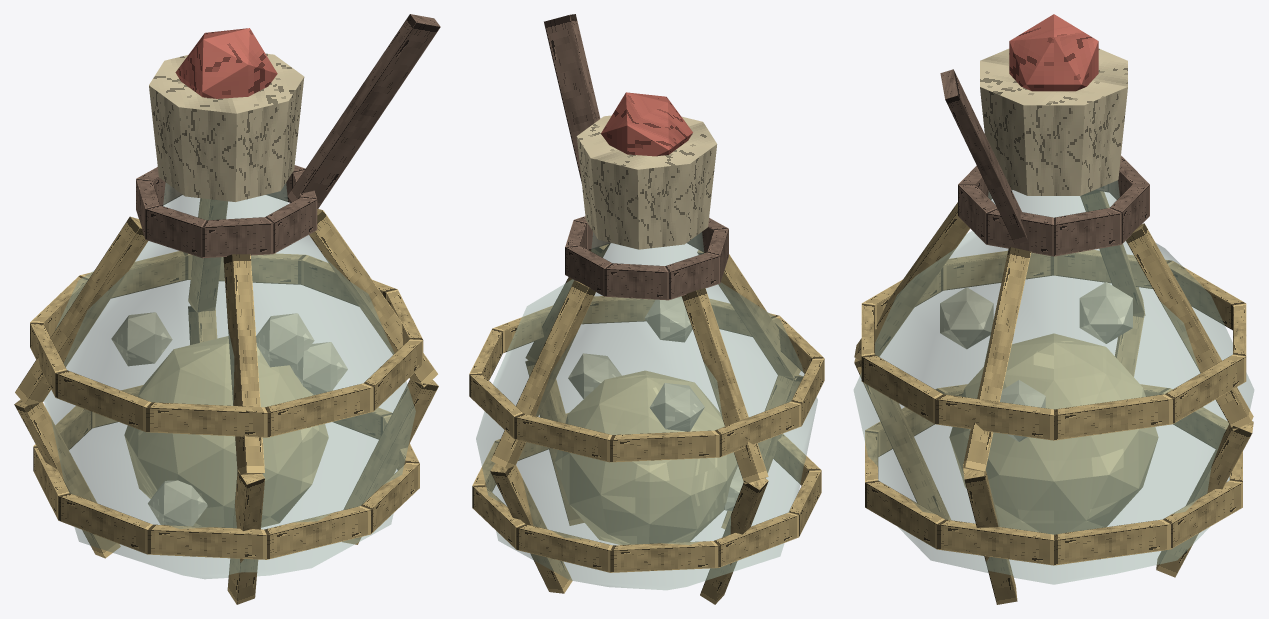
Rendered from prop_kindle_flask.gltf.
The picture shows the model from 3 angles, left to right: view 1: azimuth 30°, elevation 25°; view 2: azimuth 150°, elevation 25°; view 3: azimuth 270°, elevation 25°; orthographic projection. The views are drawn at different scales.
Parts seen in each view (by area): view 1: body, glass, embers, stopper; view 2: body, glass, embers, stopper; view 3: glass, body, embers, stopper.
Part boxes in pixels (x1,y1,x2,y2): body: [14, 14, 440, 604]; glass: [44, 183, 415, 579]; embers: [111, 312, 347, 527]; stopper: [149, 28, 304, 201]; body: [469, 14, 824, 604]; glass: [476, 232, 817, 590]; embers: [554, 296, 743, 544]; stopper: [576, 92, 717, 249]; glass: [853, 180, 1254, 584]; body: [854, 69, 1253, 604]; embers: [940, 282, 1158, 534]; stopper: [980, 14, 1127, 195].
Size of the model in its own units: 0.232 by 0.3488 by 0.23.
4 materials, 3 textured.
